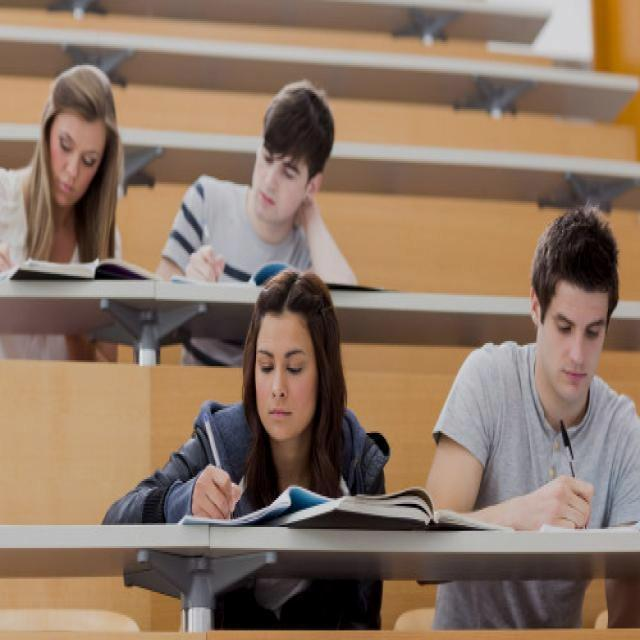Looking away: (252, 304, 318, 442), (538, 282, 610, 402), (46, 104, 106, 210), (250, 132, 309, 224)
